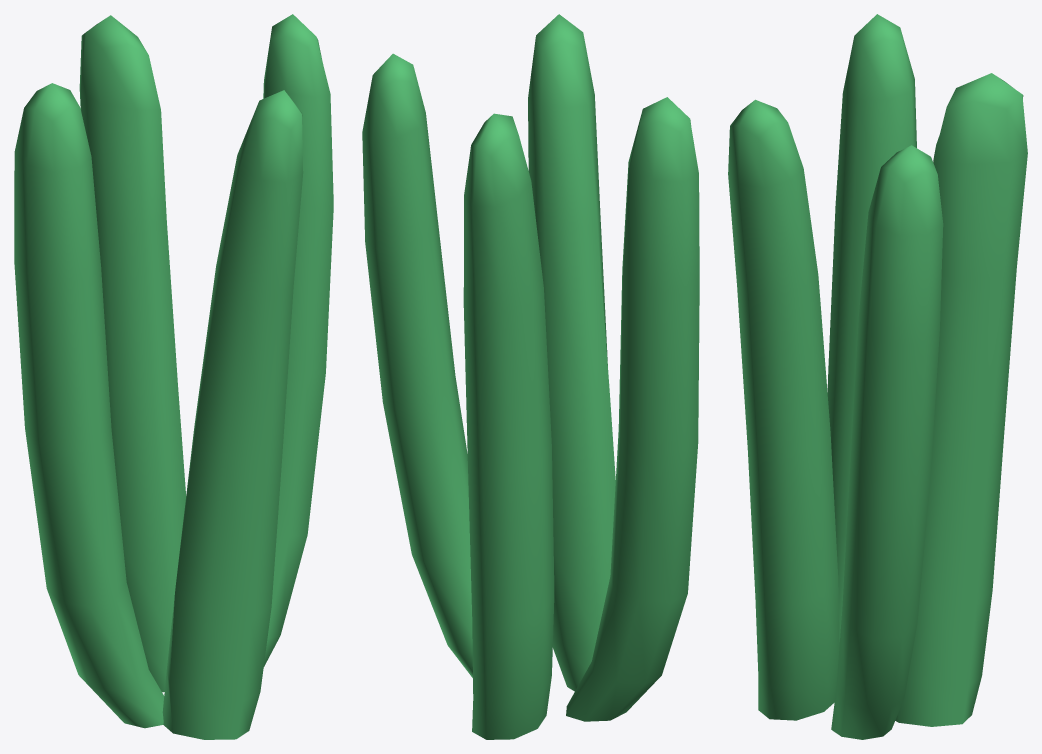
Rendered from Grass_B_01.fbx.
3 renders of one model, left to right at view 1: azimuth 30°, elevation 25°; view 2: azimuth 150°, elevation 25°; view 3: azimuth 270°, elevation 25°, orthographic.
Visible parts, largest first — view 1: Grass_B_01_LOD0; view 2: Grass_B_01_LOD0; view 3: Grass_B_01_LOD0.
Part boxes in pixels (x1,y1,x2,y2): Grass_B_01_LOD0: [14, 14, 333, 739]; Grass_B_01_LOD0: [362, 14, 699, 739]; Grass_B_01_LOD0: [728, 14, 1027, 739].
Size of what is drawn, in the model's own units: 282 by 547 by 234.
